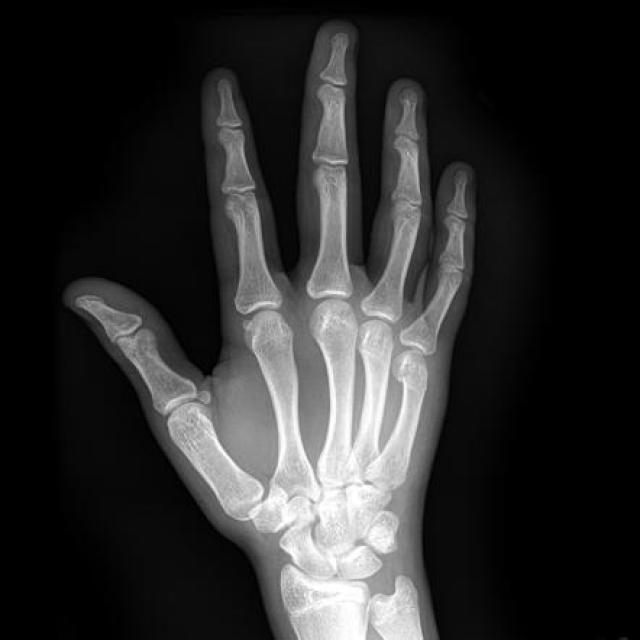fracture: (197, 463, 313, 588)
